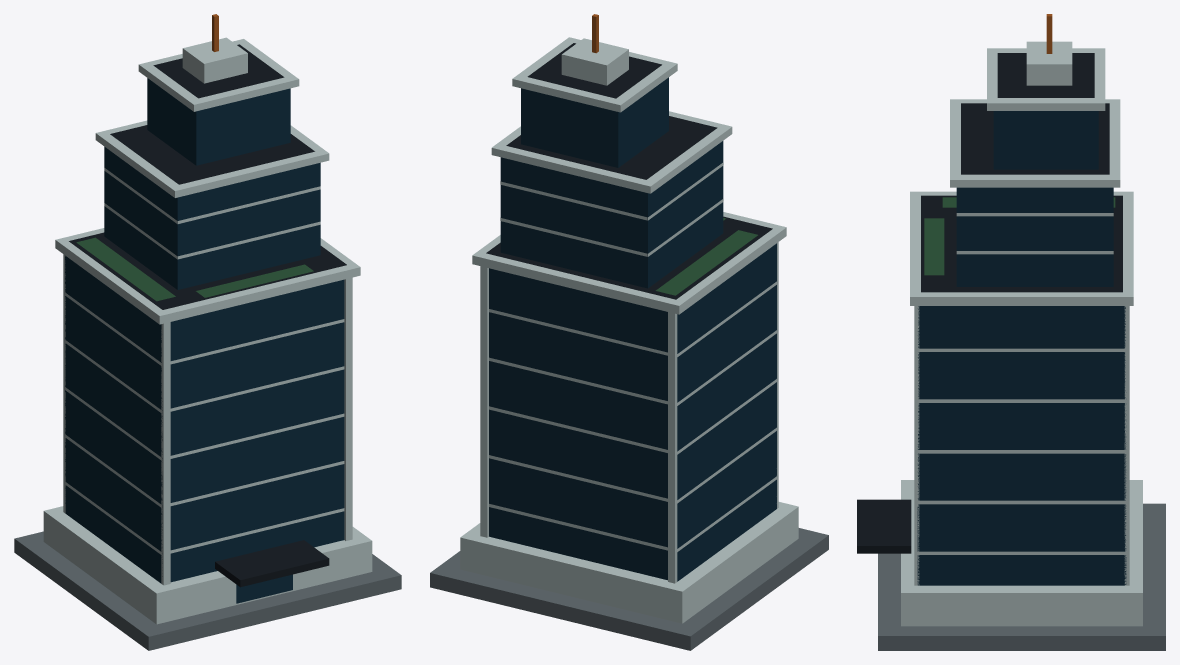
The model's file is building.obj.
3 renders of one model, left to right at view 1: azimuth 30°, elevation 25°; view 2: azimuth 150°, elevation 25°; view 3: azimuth 270°, elevation 25°, orthographic. The views are drawn at different scales.
Visible parts, largest first — view 1: edificio_alto_lowpoly; view 2: edificio_alto_lowpoly; view 3: edificio_alto_lowpoly.
Boxes of the visible parts, box(x1,y1,x2,y2) form: edificio_alto_lowpoly: box(14, 14, 401, 650); edificio_alto_lowpoly: box(430, 14, 828, 650); edificio_alto_lowpoly: box(857, 14, 1165, 650).
Bounding box in the file's own units: 3.75 × 7.67 × 3.7.
